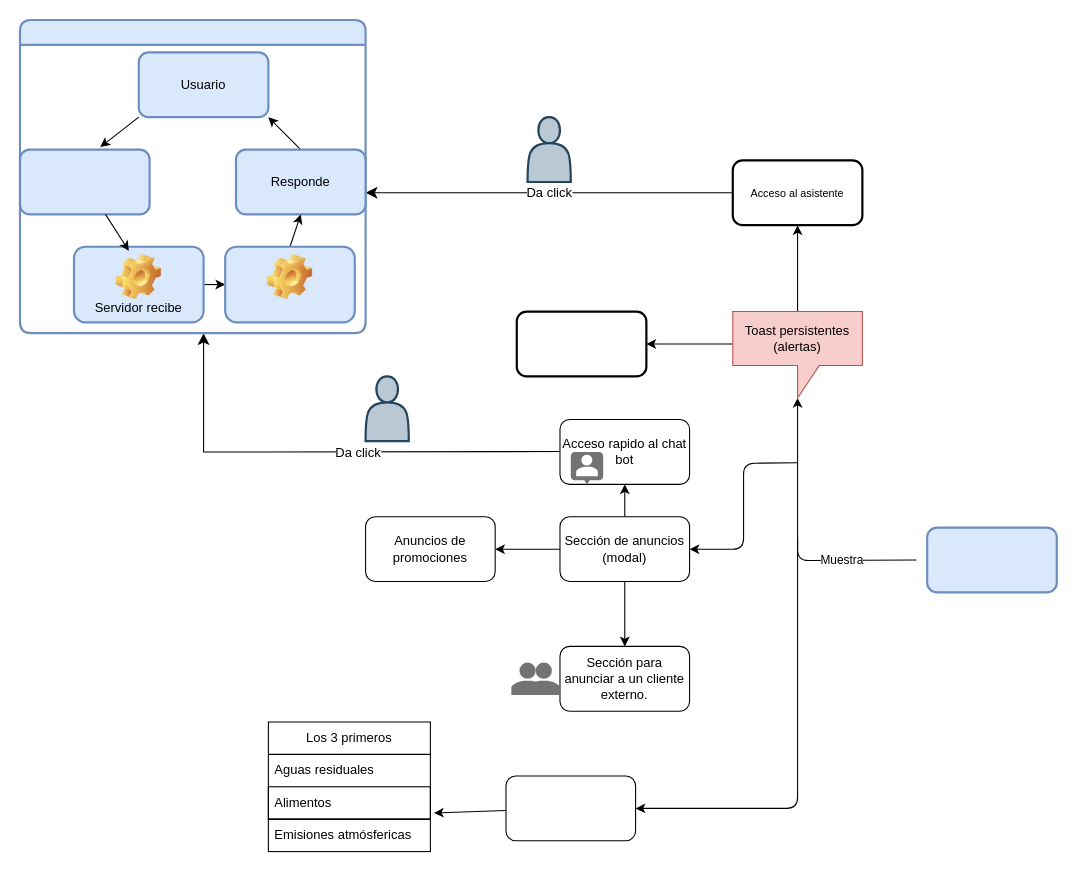
This 1076x870 diagram has some shape labels left out. Here are the shapes that lost their labels. From the top down, the box of each, then its label:
(18, 148, 150, 215): Pregunta
(18, 18, 366, 334): Chat bot
(224, 245, 355, 323): Servidor analiza
(515, 310, 647, 377): Pagos
(926, 526, 1057, 593): Página de inicio
(505, 775, 636, 841): Servicios destacados
